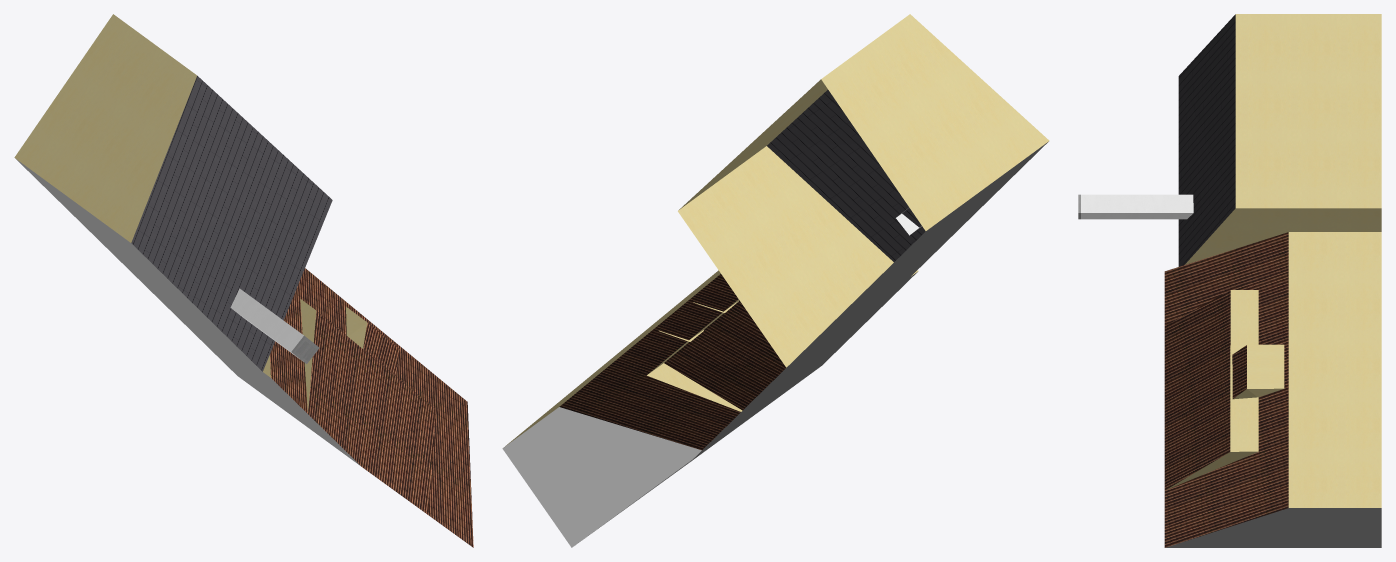
File: Lai_37_2.obj
3 renders of one model, left to right at view 1: azimuth 30°, elevation 25°; view 2: azimuth 150°, elevation 25°; view 3: azimuth 270°, elevation 25°, orthographic. The views are drawn at different scales.
Visible parts, largest first — view 1: Lai_37_2; view 2: Lai_37_2; view 3: Lai_37_2.
Part boxes in pixels (<box>): Lai_37_2: <box>14,14,473,547</box>; Lai_37_2: <box>502,14,1049,547</box>; Lai_37_2: <box>1078,14,1381,547</box>.
Size of the model in its own units: 17.79 by 21.27 by 13.47.
